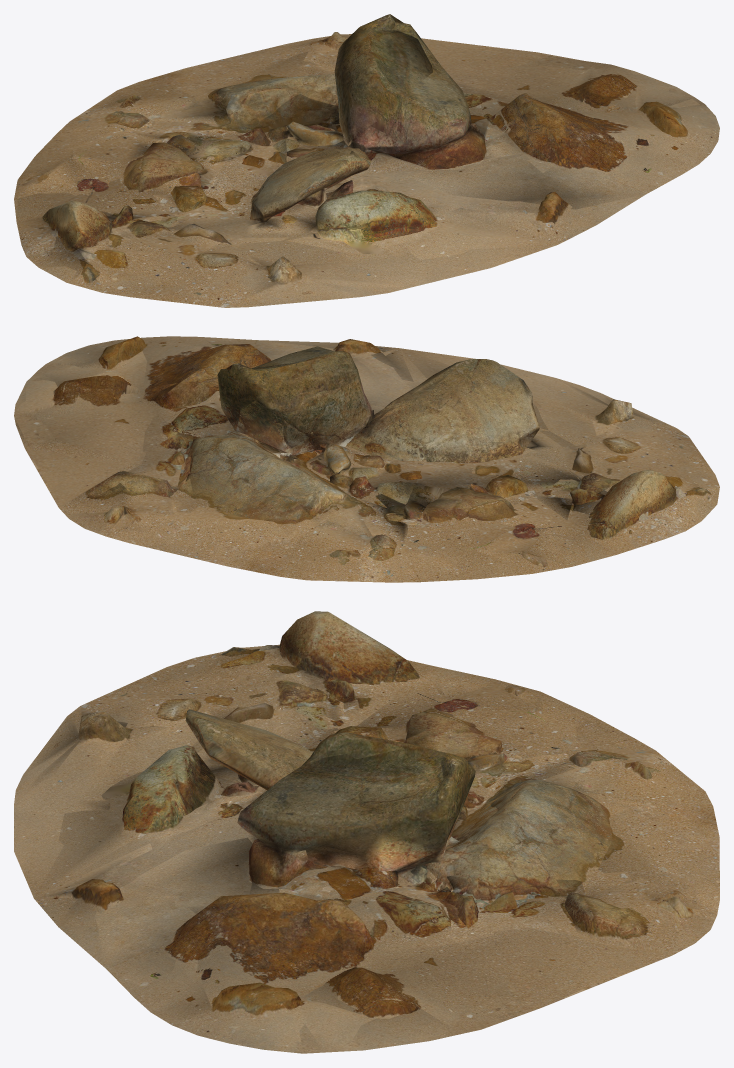
File: thai_beach_rocks_ueopcguga.glb
3 renders of one model, top to bottom at view 1: azimuth 30°, elevation 25°; view 2: azimuth 150°, elevation 25°; view 3: azimuth 270°, elevation 25°, orthographic. The views are drawn at different scales.
Visible parts, largest first — view 1: ueopcguga_LOD0_TIER2_000, ueopcguga_LOD0_TIER2_000_MatID_1_0_far; view 2: ueopcguga_LOD0_TIER2_000, ueopcguga_LOD0_TIER2_000_MatID_1_0_far; view 3: ueopcguga_LOD0_TIER2_000, ueopcguga_LOD0_TIER2_000_MatID_1_0_far.
Part boxes in pixels (box(x1,y1,x2,y2)): ueopcguga_LOD0_TIER2_000: box(14, 14, 719, 307); ueopcguga_LOD0_TIER2_000_MatID_1_0_far: box(16, 14, 699, 307); ueopcguga_LOD0_TIER2_000: box(14, 336, 719, 582); ueopcguga_LOD0_TIER2_000_MatID_1_0_far: box(14, 340, 719, 581); ueopcguga_LOD0_TIER2_000: box(14, 611, 719, 1053); ueopcguga_LOD0_TIER2_000_MatID_1_0_far: box(15, 648, 716, 1050).
Size of the model in its own units: 1.84 by 0.2849 by 1.34.
1 material, 1 textured.
